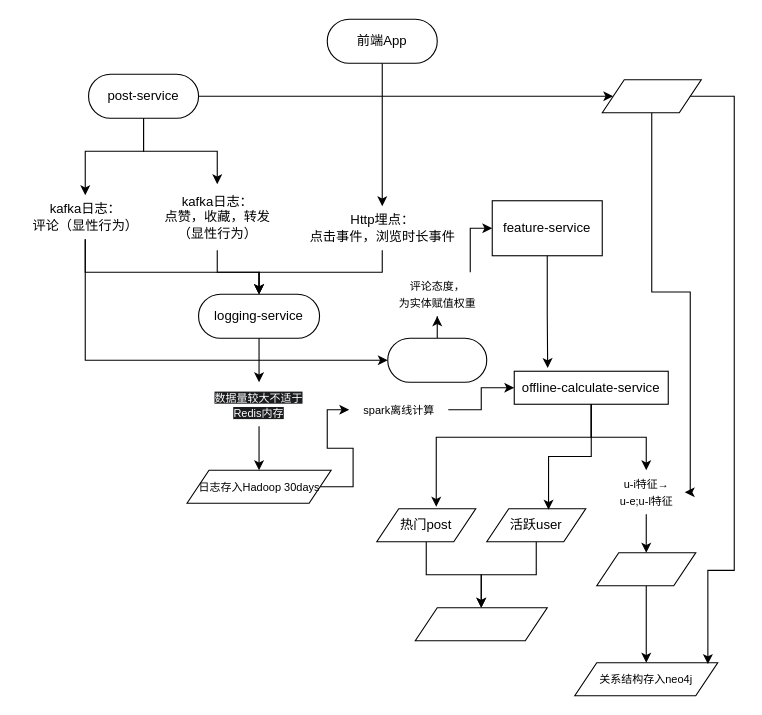
The diagram is 762 pixels wide and 715 high, and some of its shapes have lost their labels. Each missing label, with the centre of its shape:
"nlp-service" goes at (437,359).
"post特征 （p-e;p-l）" goes at (651,96).
"user-特征" goes at (646,569).
"当日热门存入Redis" goes at (480,624).
